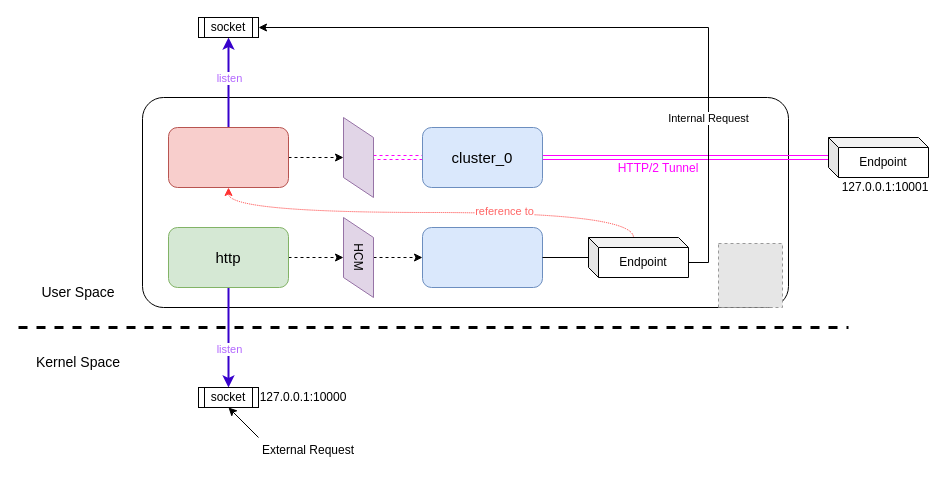
This 946x480 diagram has some shape labels left out. Grey dashed boxes stand in for pictures. Each missing label, with the centre of its shape:
encap: the point at 228,157
encap_cluster: the point at 482,257
TcpProxy: the point at 358,157
